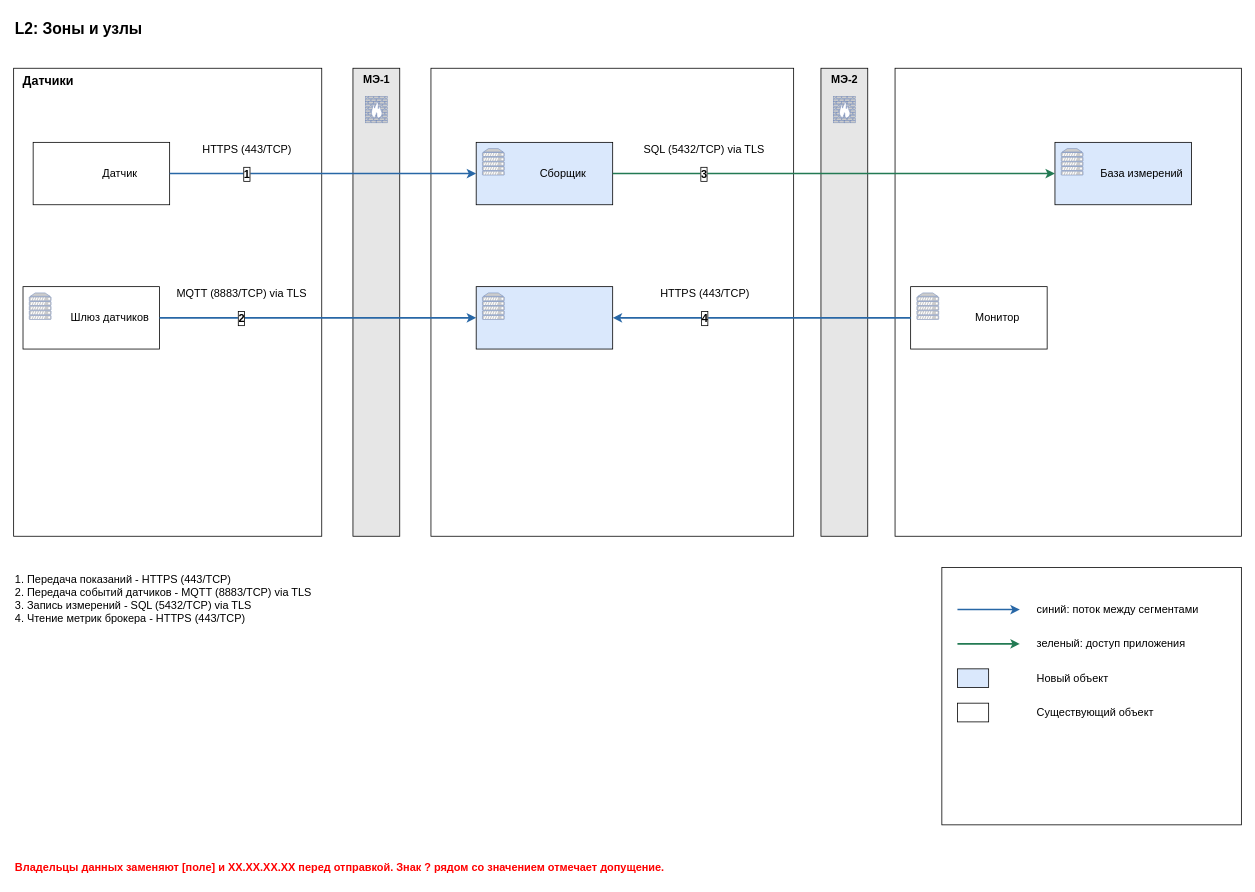
This 1255x892 diagram has some shape labels left out. The shapes that lost their labels are listed below. From the top down, each one's box as (x1, y1, x2, y2) in pixels, then its label:
(475, 286, 613, 349): Брокер сообщений
(430, 67, 794, 536): Прием телеметрии
(894, 67, 1241, 536): Хранение измерений
(941, 567, 1241, 825): Легенда
